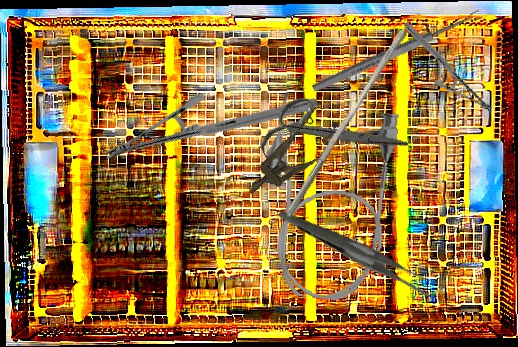Cannula: (253, 90, 401, 305)
Dressing Forceps: (276, 168, 441, 333)
Iris Scissors: (248, 62, 409, 207)
Needle Holder: (102, 22, 321, 236), (388, 21, 509, 114)
Pusher: (283, 23, 409, 224)
Speculum: (235, 101, 348, 209)
Surgical Spoon: (310, 8, 484, 95)
